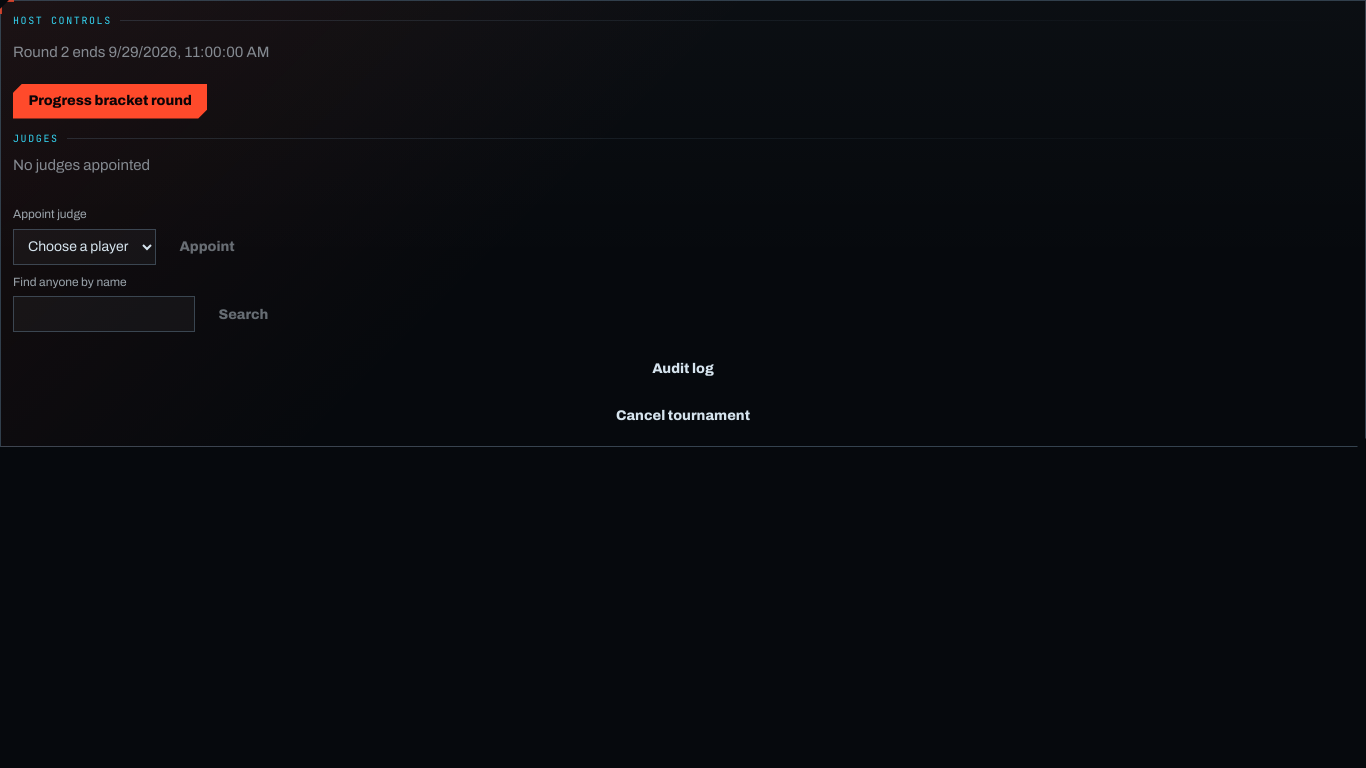
audit log › is collapsed and fetches lazily on expand
Click the button "Audit log". click: (683, 370)
box: [13,352,1353,387]
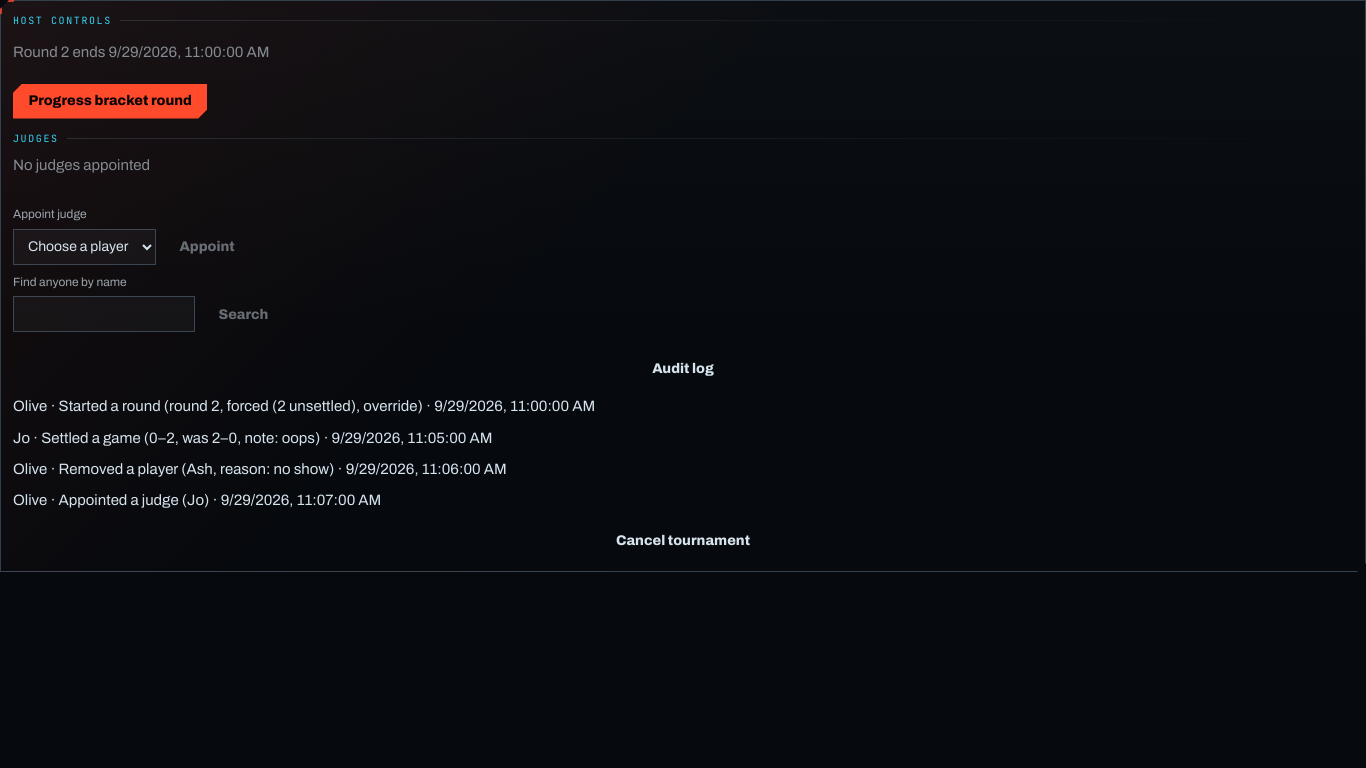
expect the text "Olive" is shown: met, box [13,398,47,414]
expect the text "was 2–0" is shown: met, box [141,430,320,446]
expect the text "forced" is shown: met, box [161,398,423,414]
